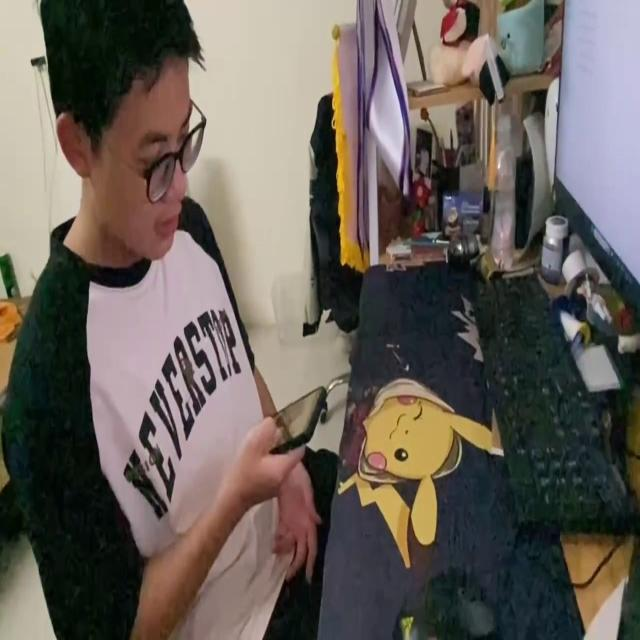laptop: (552, 6, 640, 334)
phone: (255, 384, 331, 449)
student: (1, 0, 331, 640)
